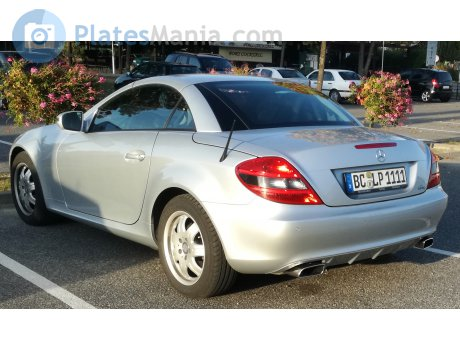License Plates: (359, 170, 403, 186)
